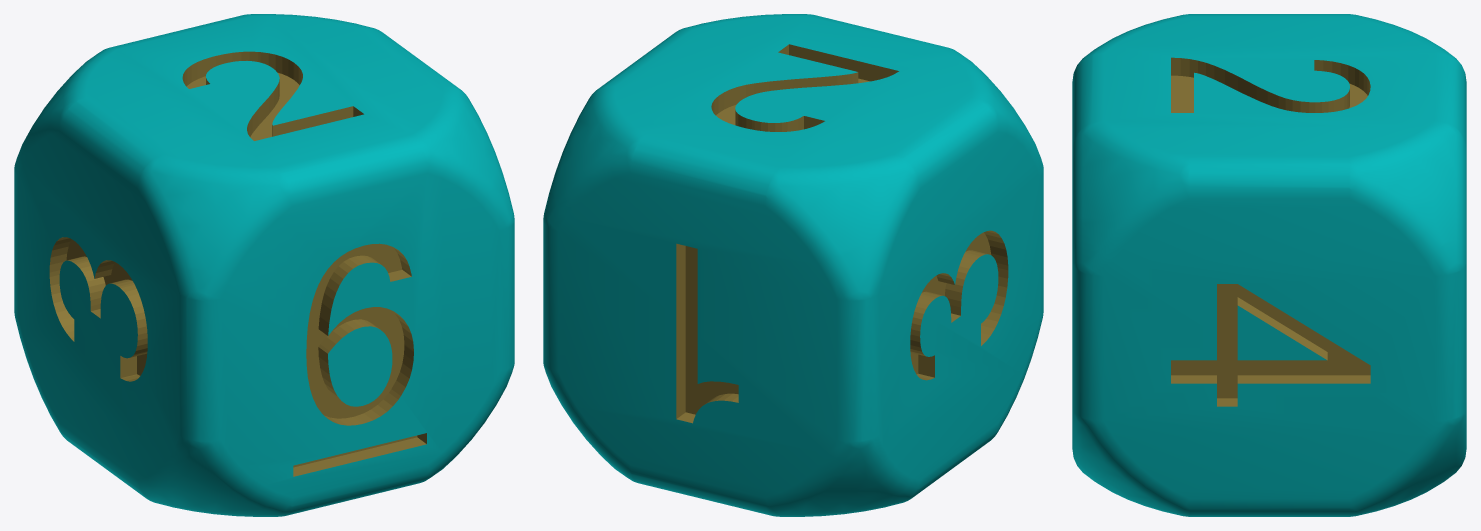
The model's file is Die Numbered Primary Cyan.glb.
3 renders of one model, left to right at view 1: azimuth 30°, elevation 25°; view 2: azimuth 150°, elevation 25°; view 3: azimuth 270°, elevation 25°, orthographic. The views are drawn at different scales.
Parts seen in each view (by area): view 1: Die_Body; view 2: Die_Body; view 3: Die_Body.
Boxes of the visible parts, bbox=[...] form: Die_Body: bbox=[14, 14, 514, 516]; Die_Body: bbox=[543, 14, 1043, 516]; Die_Body: bbox=[1072, 14, 1466, 516].
Size of the model in its own units: 1 by 1 by 1.
